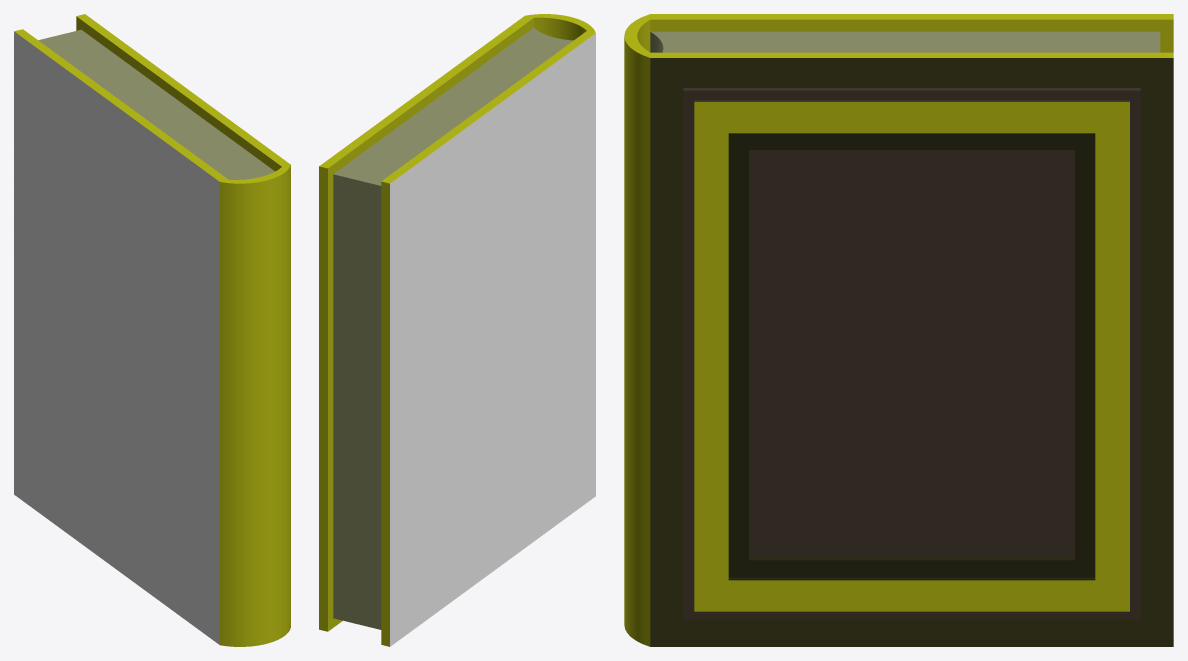
The model's file is Tome.fbx.
3 views of the same model, side by side, from view 1: azimuth 30°, elevation 25°; view 2: azimuth 150°, elevation 25°; view 3: azimuth 270°, elevation 25° (orthographic). The views are drawn at different scales.
Parts seen in each view (by area): view 1: thunder1; view 2: thunder1; view 3: thunder1.
Boxes of the visible parts, x1,y1,x2,y2 form: thunder1: (14, 14, 290, 646); thunder1: (319, 14, 595, 646); thunder1: (624, 14, 1173, 646).
Size of the model in its own units: 2.2 by 12.48 by 10.55.
